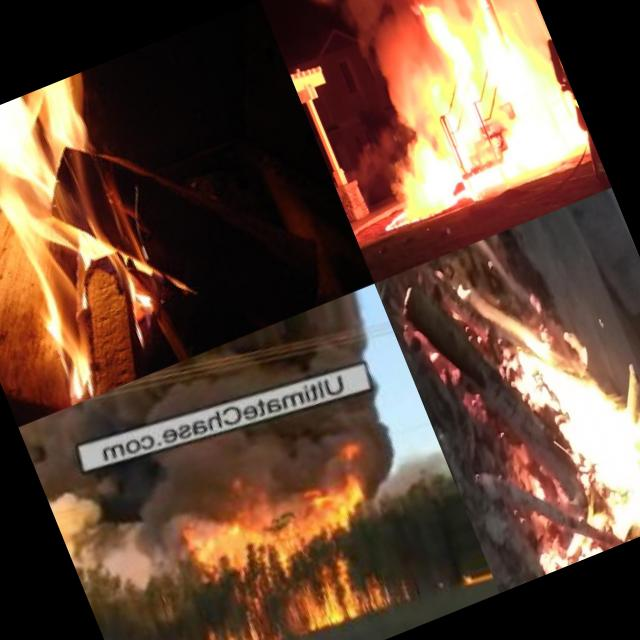fire: (0, 60, 222, 410), (185, 454, 385, 592), (467, 10, 578, 172), (397, 0, 508, 150), (288, 536, 417, 634), (584, 301, 640, 526), (379, 111, 477, 221), (456, 127, 530, 199), (206, 600, 281, 640)
smoke: (49, 457, 204, 604), (352, 8, 440, 130), (295, 0, 518, 38)
